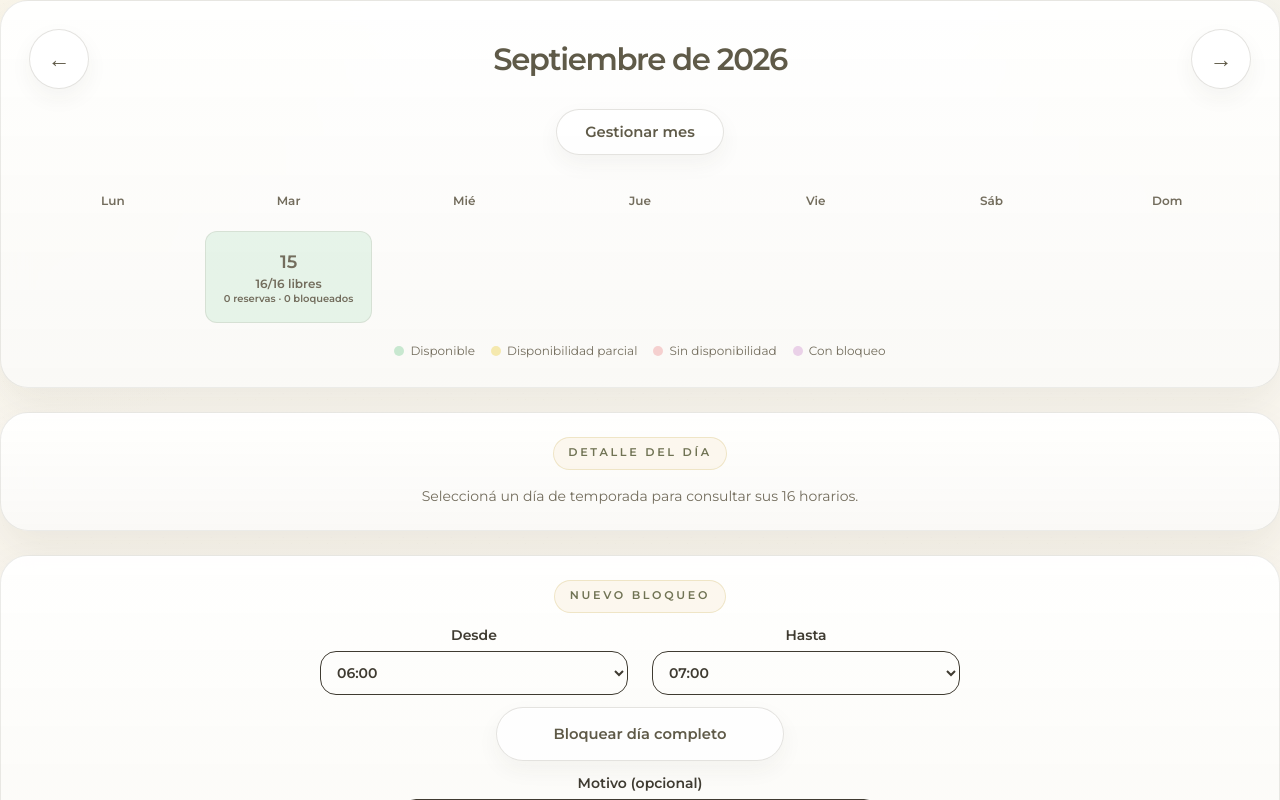
Test: AdminAvailabilityManager › elimina un bloqueo con DELETE y refresca el detalle
This screenshot has width=1280, height=800.
What coordinates should you click on to do the following:
click the button with aria-label "15 de septiembre"
I would click on:
 (289, 277)
Its box is [205, 231, 372, 323].
(page scrolled)
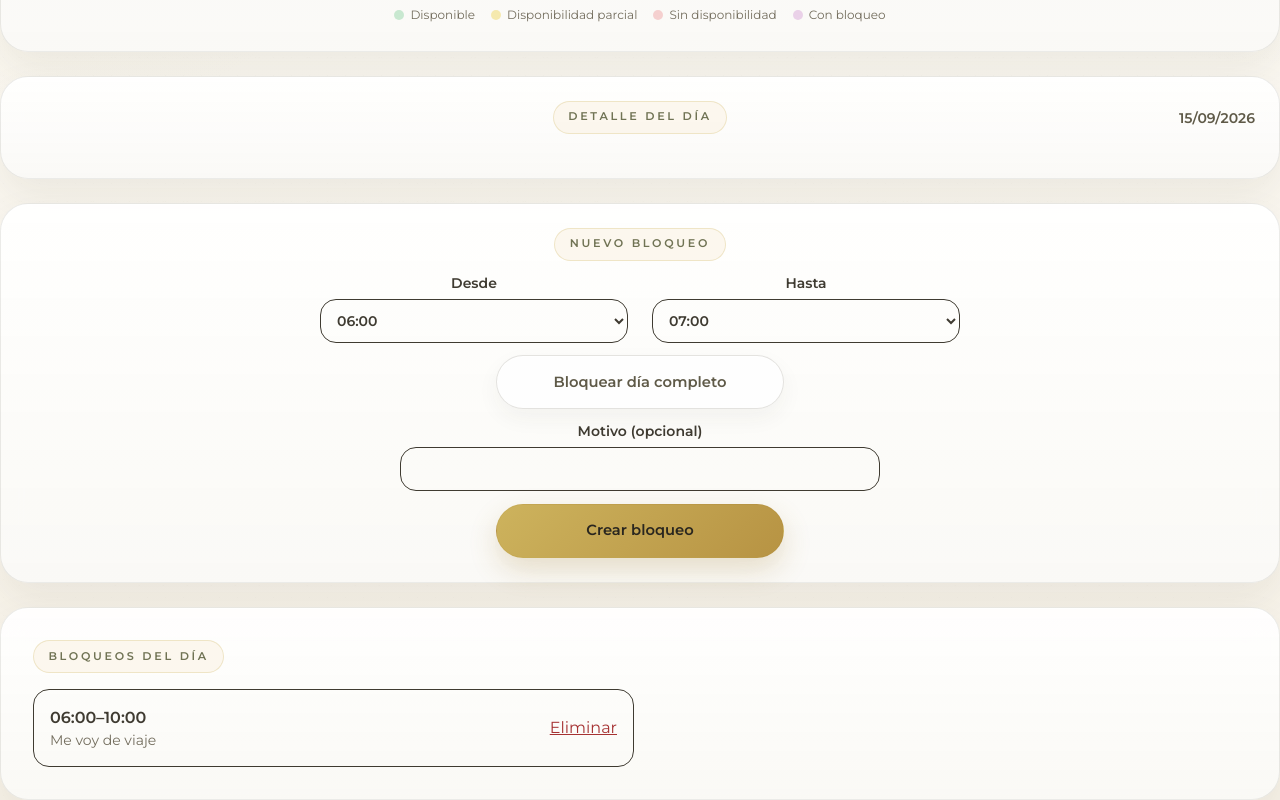
Expected: the text "Me voy de viaje" is shown, [50, 730, 156, 750]
What coordinates should you click on to do the following:
click the button "Eliminar"
I would click on:
 (583, 728)
Its box is [550, 716, 617, 740].
(page scrolled)
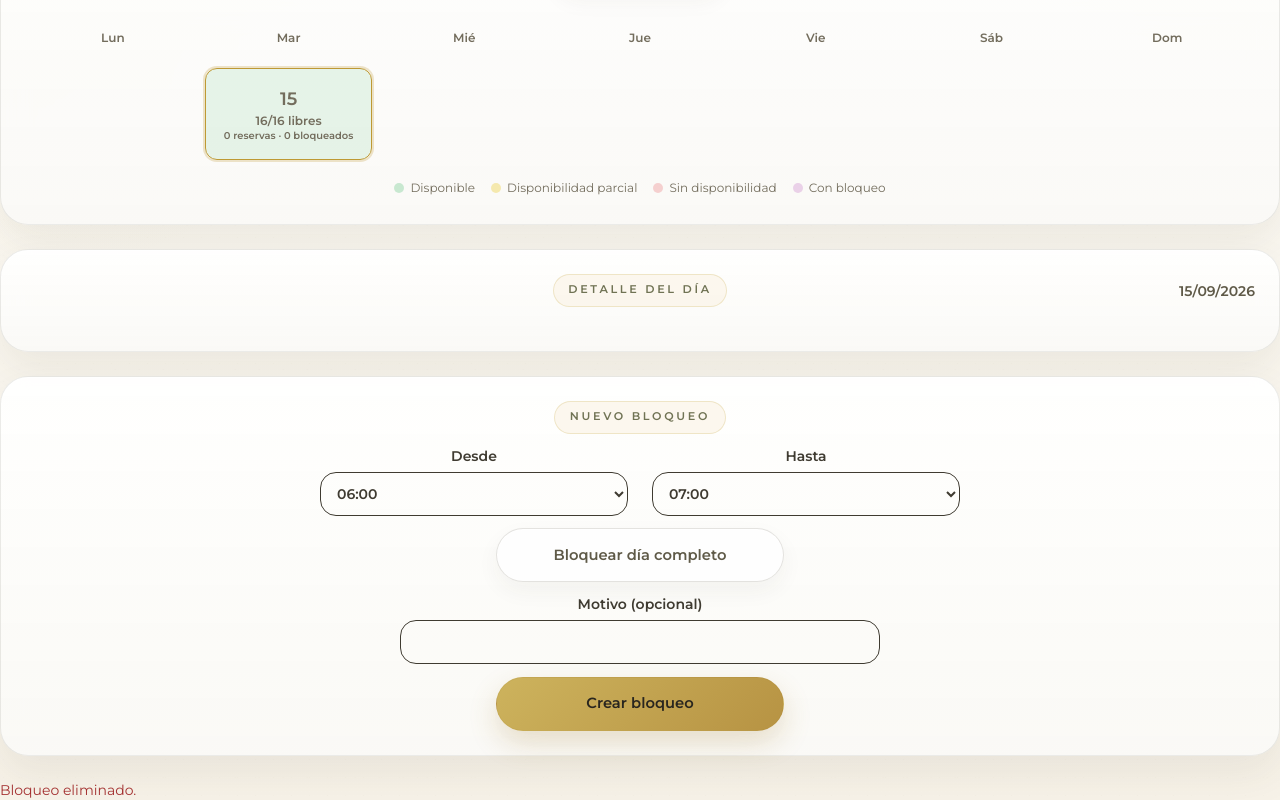
Expected: the text "Bloqueo eliminado." is shown, [0, 781, 136, 799]
Expected: the text "Me voy de viaje" is gone
